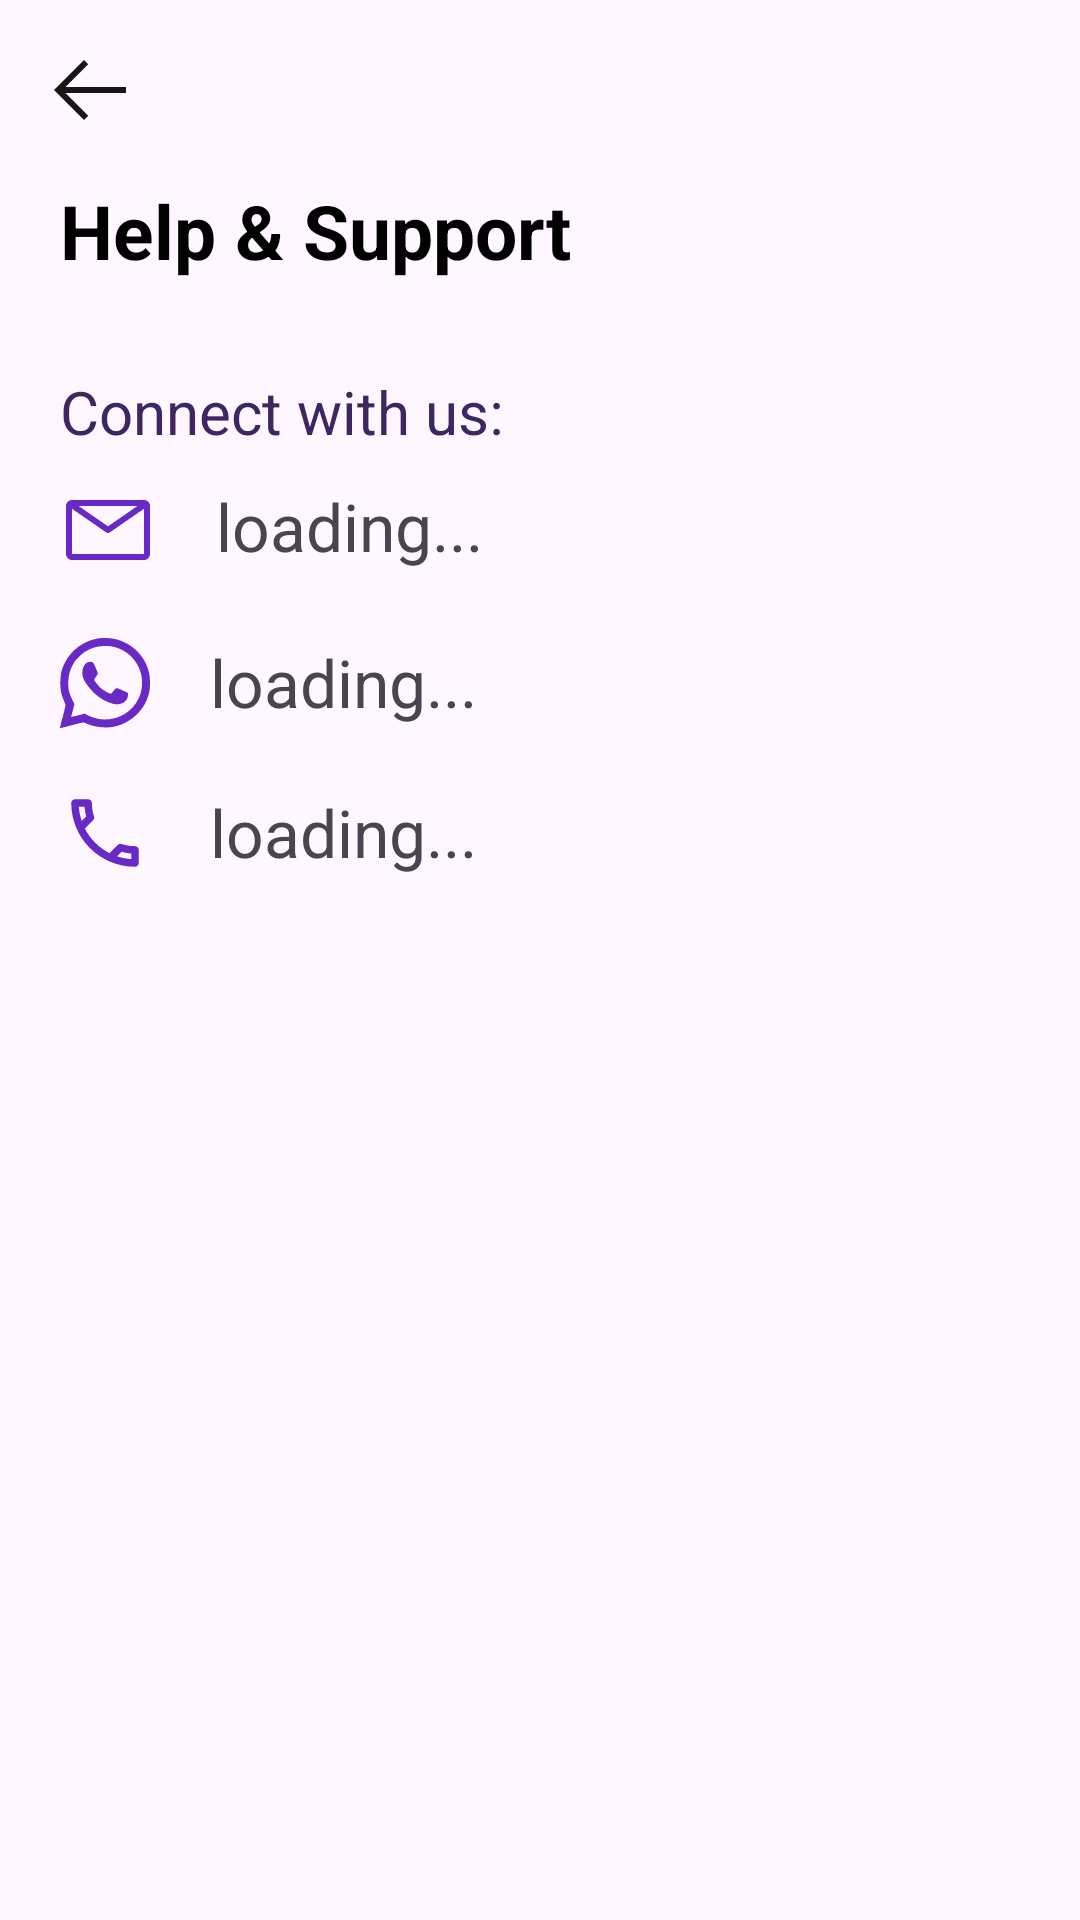

Where to tap for icons on this 1080×1920 app screen, as (x=x, y=y):
back: (x=90, y=90)
